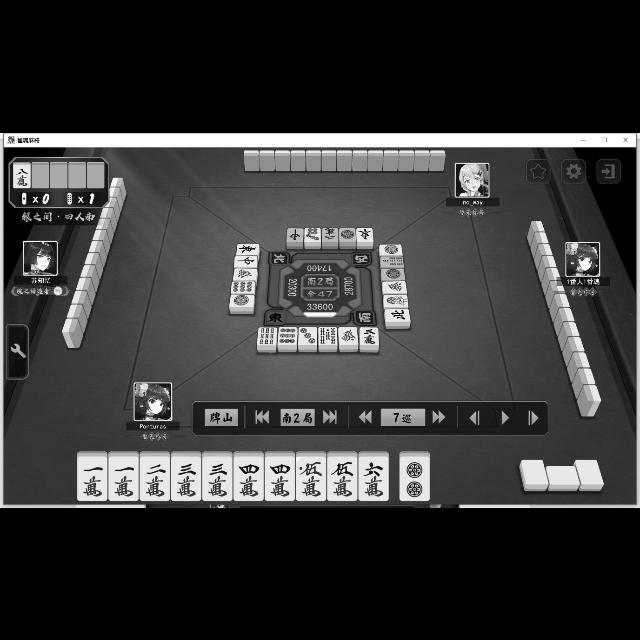1m: (108, 456, 140, 500), (76, 457, 106, 501)
1p: (229, 293, 255, 307), (381, 266, 405, 280), (339, 226, 356, 242), (380, 243, 402, 254)
1s: (384, 294, 410, 308)
2m: (140, 456, 170, 502), (324, 227, 338, 241)
2p: (399, 456, 431, 500)
3m: (171, 456, 201, 500), (202, 456, 232, 500), (359, 326, 378, 344)
3p: (299, 326, 319, 344)
4m: (234, 456, 264, 499), (265, 456, 295, 499)
5m: (326, 457, 359, 501), (296, 456, 326, 499)
5s: (317, 326, 338, 346)
6m: (358, 456, 388, 500)
7p: (304, 226, 322, 242)
7s: (380, 255, 404, 267)
8m: (13, 162, 31, 188)
9p: (230, 280, 256, 294), (278, 326, 296, 344)
9s: (258, 327, 274, 345)
chun: (232, 255, 258, 267), (287, 228, 303, 244)
haku: (522, 458, 550, 484), (546, 464, 580, 484), (576, 459, 604, 483)
hatsu: (339, 326, 359, 346), (232, 266, 258, 280), (382, 280, 406, 292)
pe: (385, 308, 411, 322)
tou: (236, 242, 260, 255), (357, 227, 373, 241)
